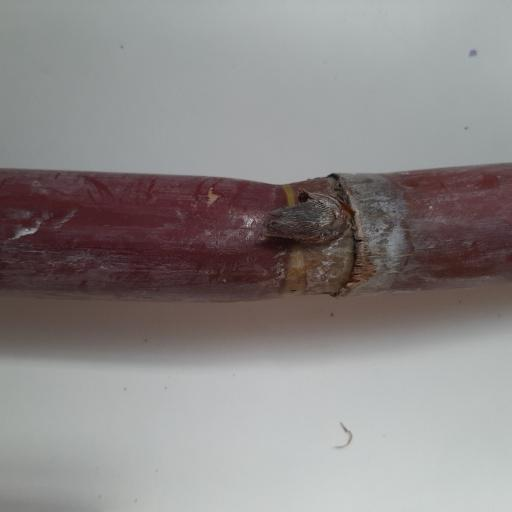Bud: (265, 194, 345, 245)
